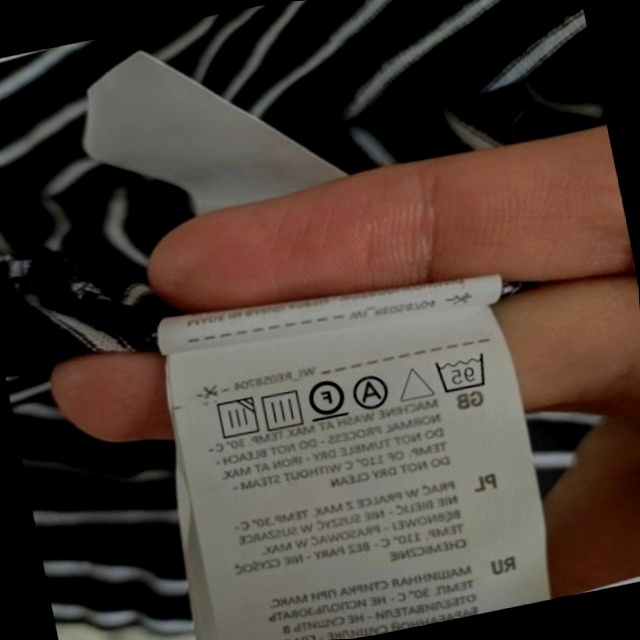95C: (430, 349, 492, 397)
bleach: (394, 359, 435, 406)
drip_dry: (257, 385, 307, 434)
drip_dry_in_shade: (210, 393, 261, 444)
dry_clean: (350, 370, 394, 413)
dry_clean_petrol_only: (303, 373, 349, 424)
